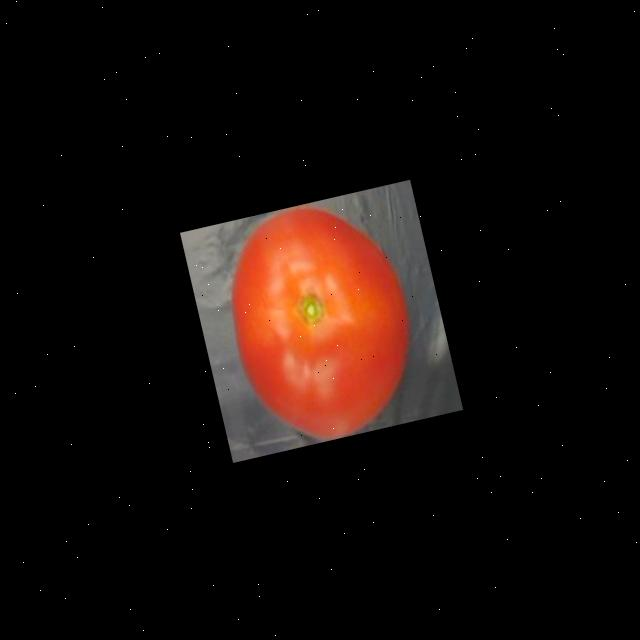tomato: (204, 185, 433, 456)
